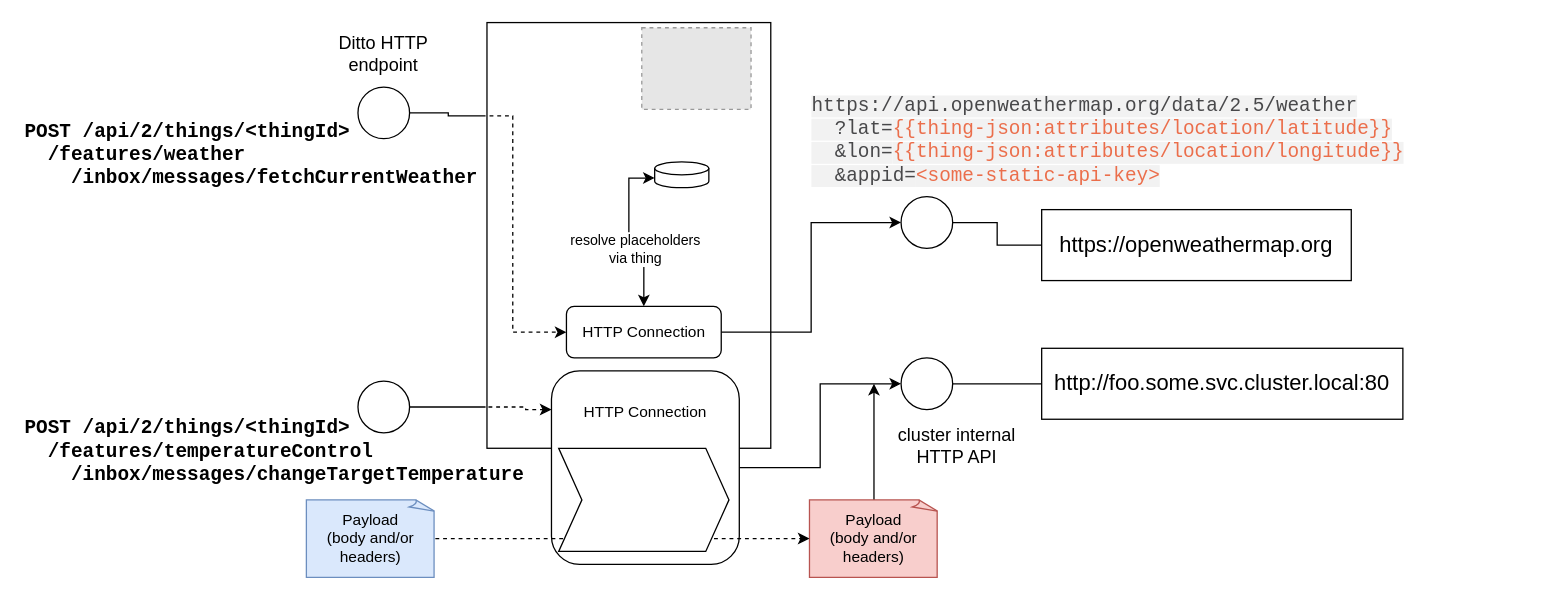
This 1553x600 diagram has some shape labels left out. Grey dashed boxes stand in for pictures. The shapes that lost their labels are listed below. From the top down, each one's box as (x1, y1, x2, y2) in pixels, then its label:
(653, 161, 709, 188): Thing
(557, 447, 729, 551): Optionally: Payload transformation/ mapping
